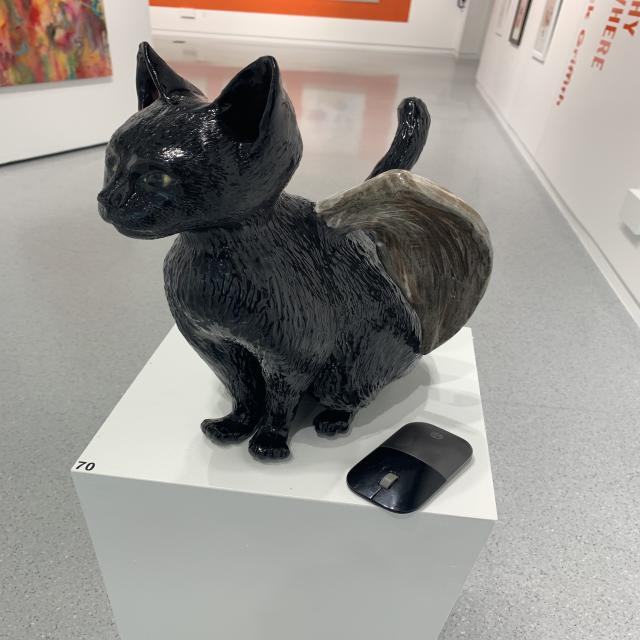Mouse: (341, 409, 491, 528)
